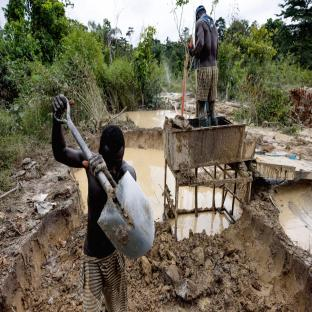Person: (53, 94, 143, 311), (187, 4, 226, 125)
